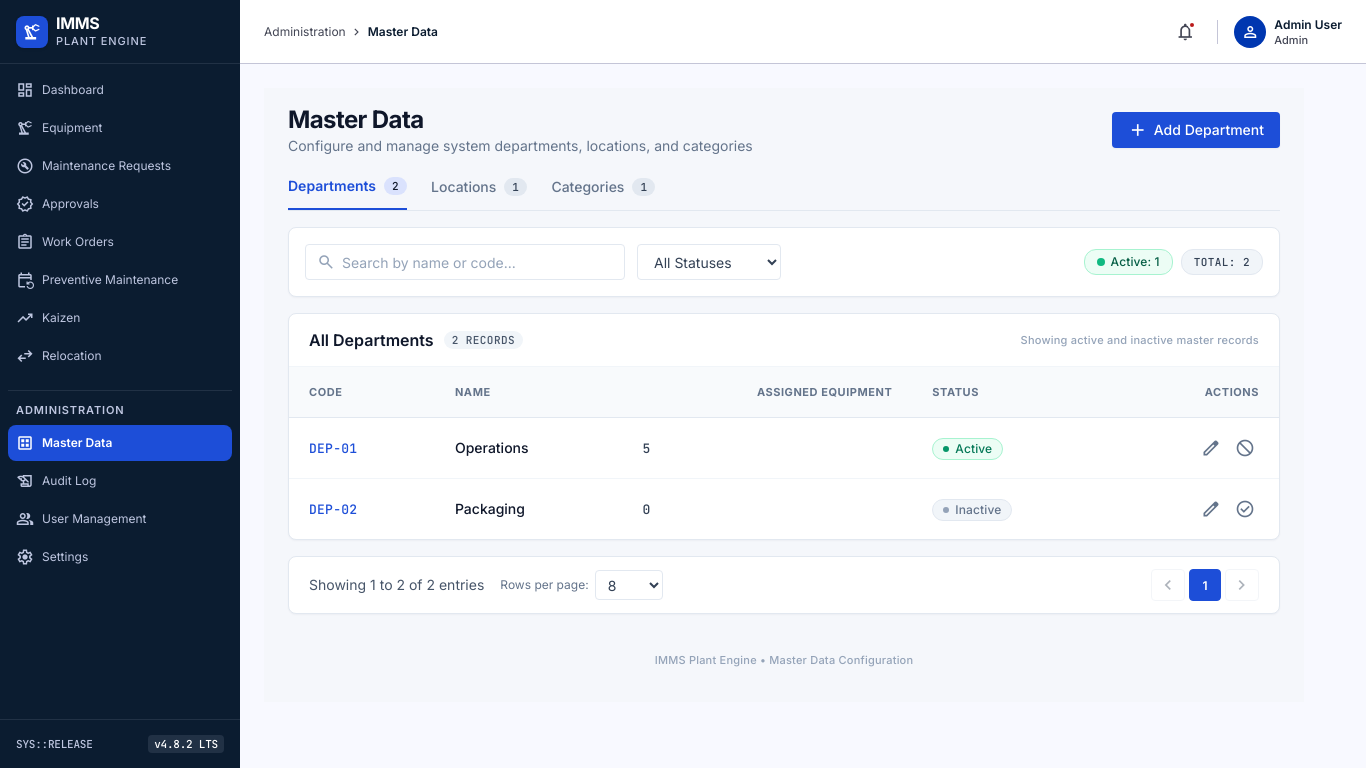
Test: MasterDataPage › switches tabs to Locations and Categories and requests respective APIs
The width and height of the screenshot is (1366, 768).
Expected: the text "Operations" is shown, [455,439,528,456]
Note: Switch to Locations
Click the tab "Locations 1".
click(479, 193)  # box [431,176,527,210]
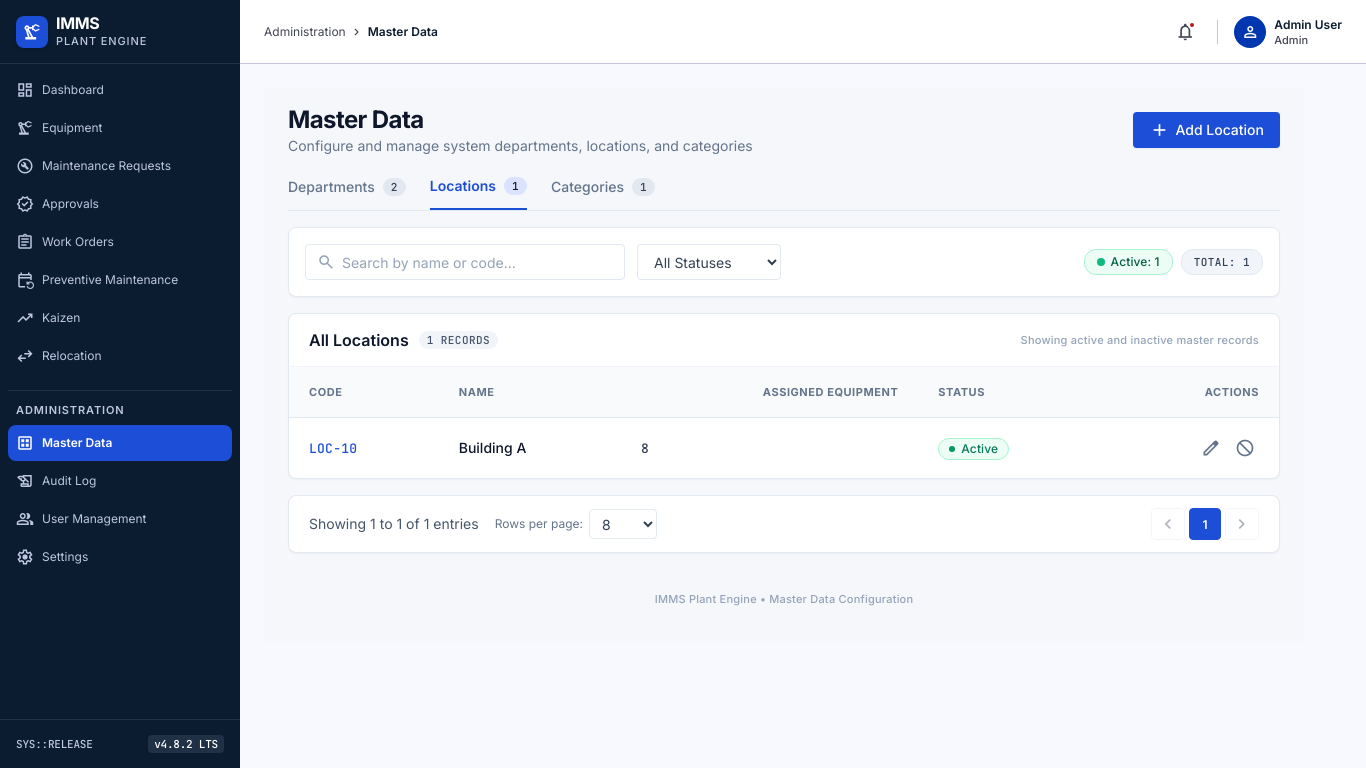
Now the text "Building A" is shown, box [459,439,526,456]
Now the text "LOC-10" is shown, box [309,440,357,457]
Note: Switch to Categories
Click the tab "Categories 1".
click(603, 193)  # box [551,176,655,210]
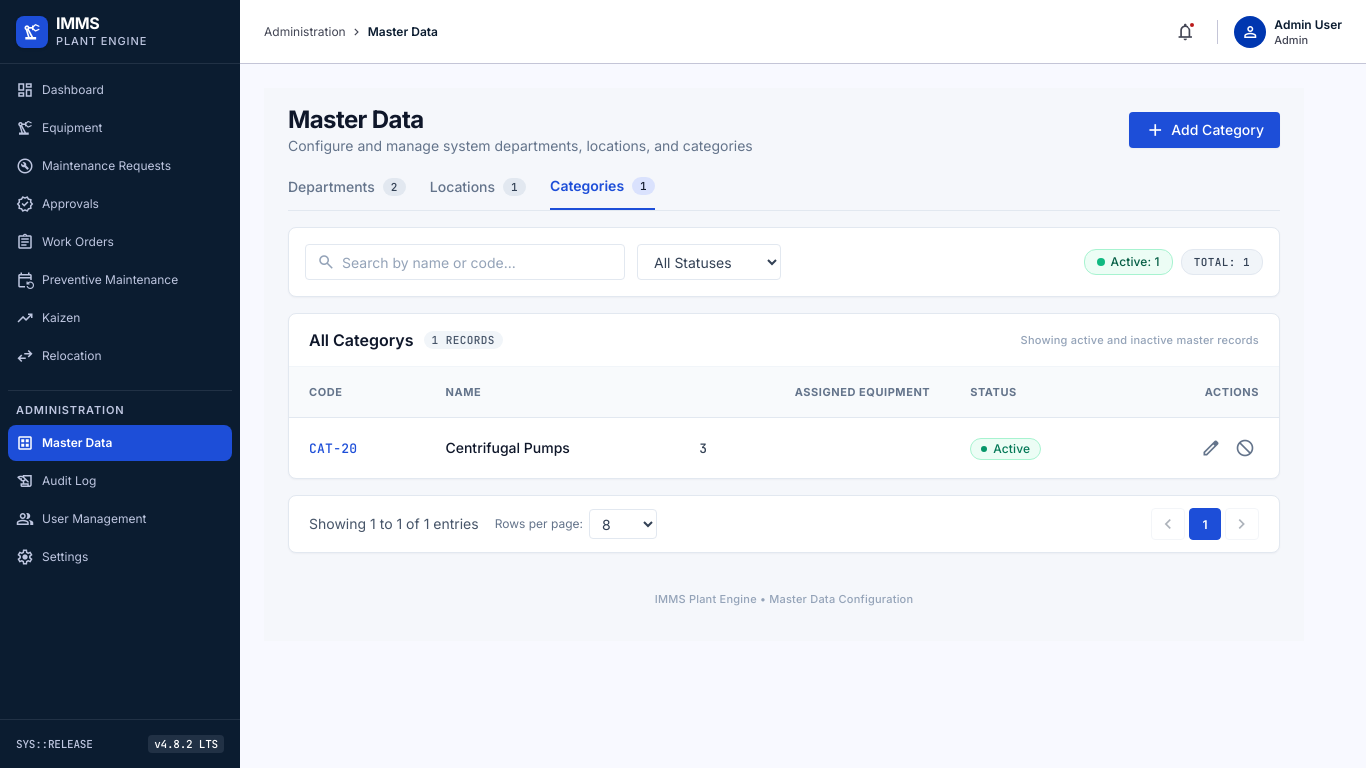
Now the text "Centrifugal Pumps" is shown, box [446,439,570,456]
Now the text "CAT-20" is shown, box [309,440,357,457]
